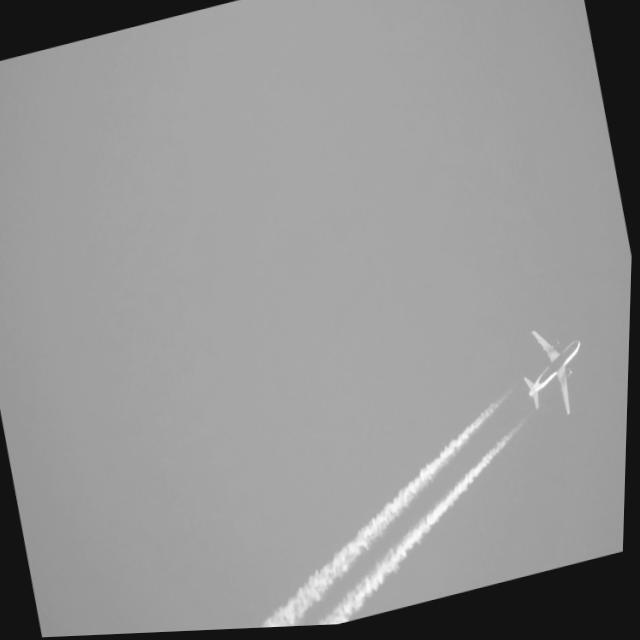aeroplane: (514, 320, 600, 430)
